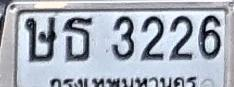2: (169, 15, 193, 60), (140, 15, 164, 60)
3: (111, 15, 134, 60)
6: (199, 14, 220, 59)
A24: (63, 16, 93, 62)
A39: (24, 16, 56, 62)
